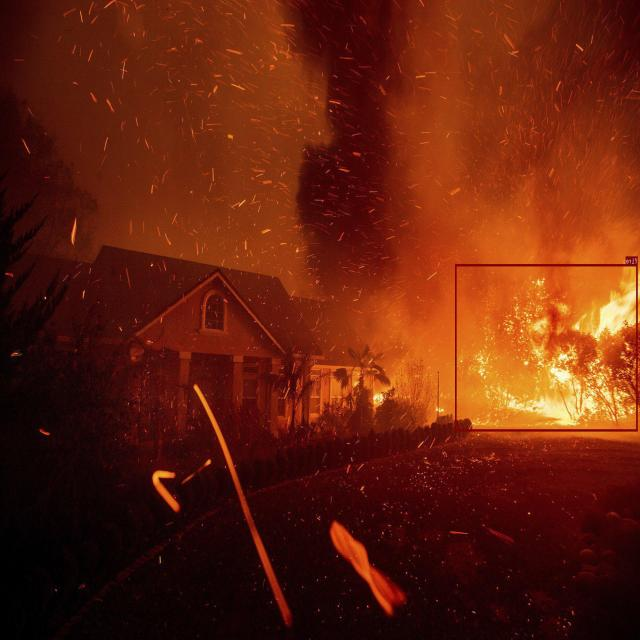fire: (456, 264, 638, 431)
